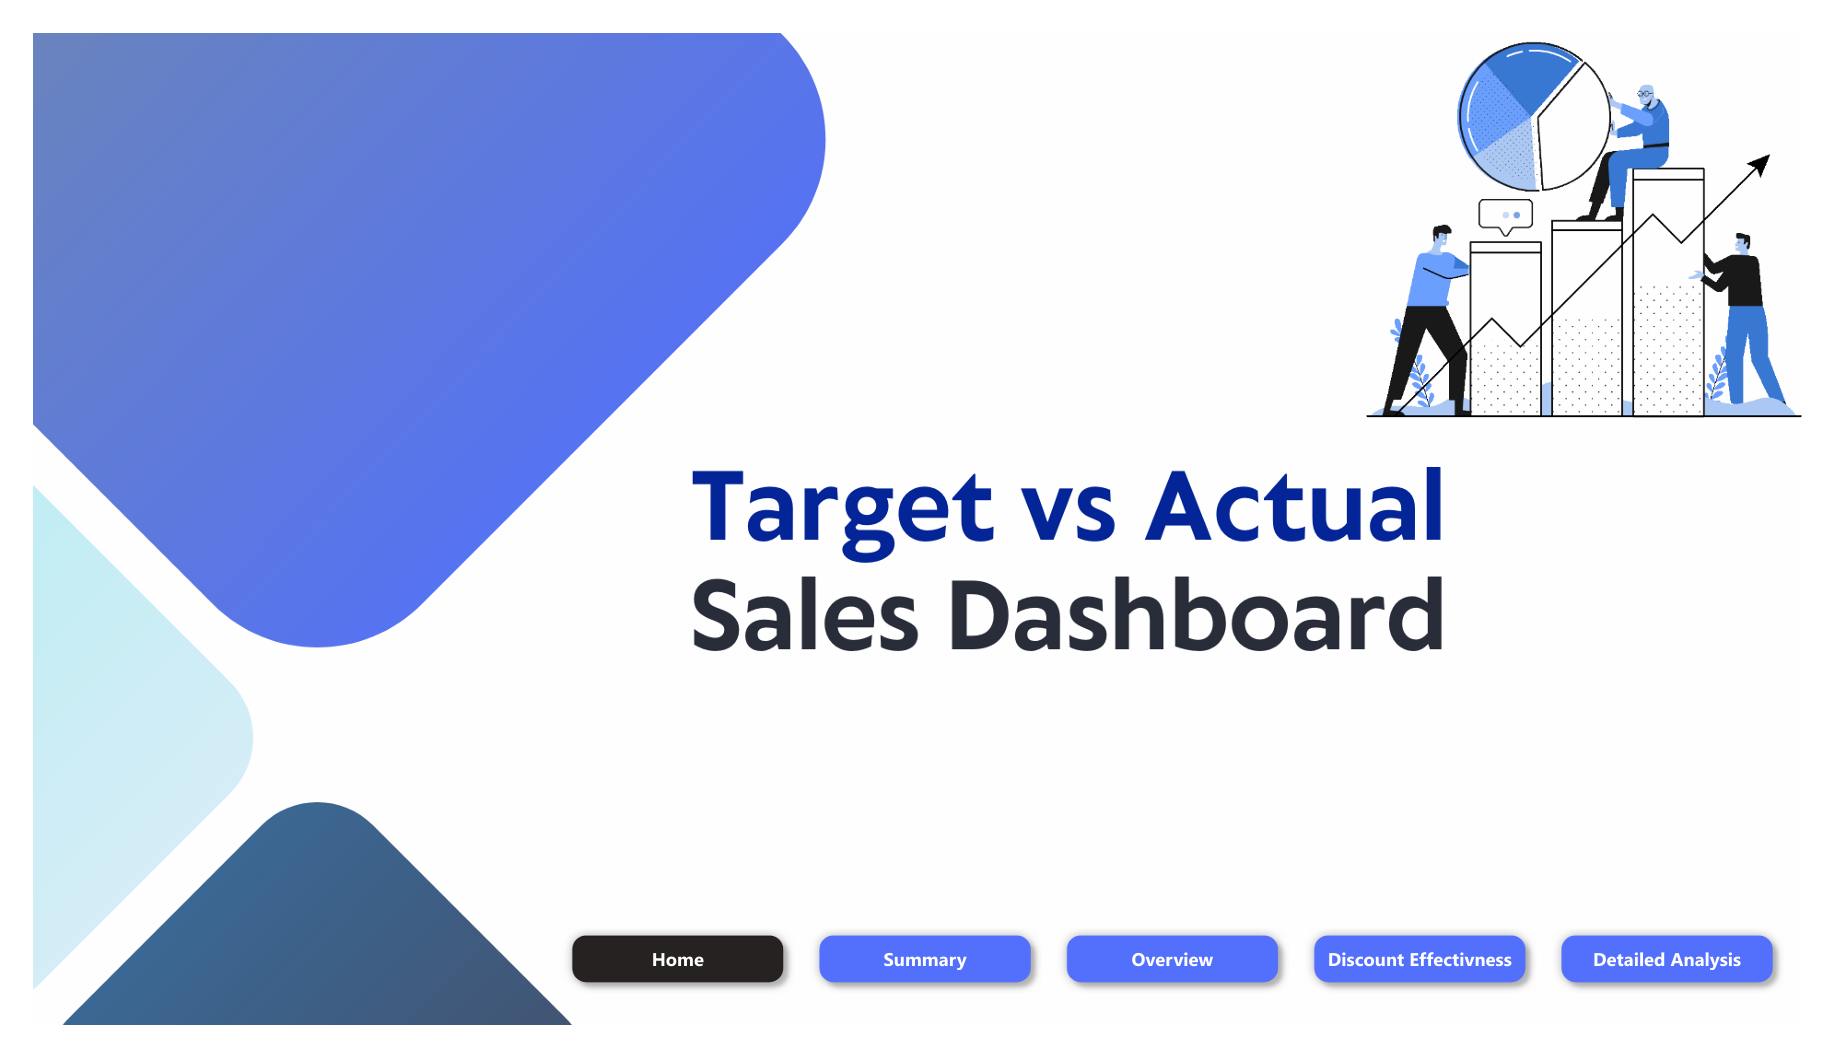

What the dashboard file says about the page in this screenshot:
{"tool":"powerbi","page":{"name":"Home","canvas":[1280,720],"ordinal":0},"visuals":[{"type":"pageNavigator","box":[382.3,644.9,885.9,50.5],"z":0}]}

Visuals, with their boxes in screenshot pixels (x1, y1, x2, y2), scaled from the page's 1280x720 canvas onto the 1836x1051 screenshot:
pageNavigator: box(548, 941, 1819, 1015)
